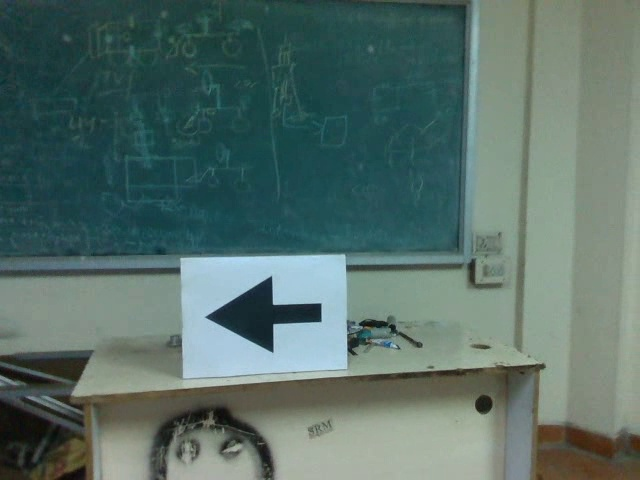Left: (198, 268, 328, 357)
